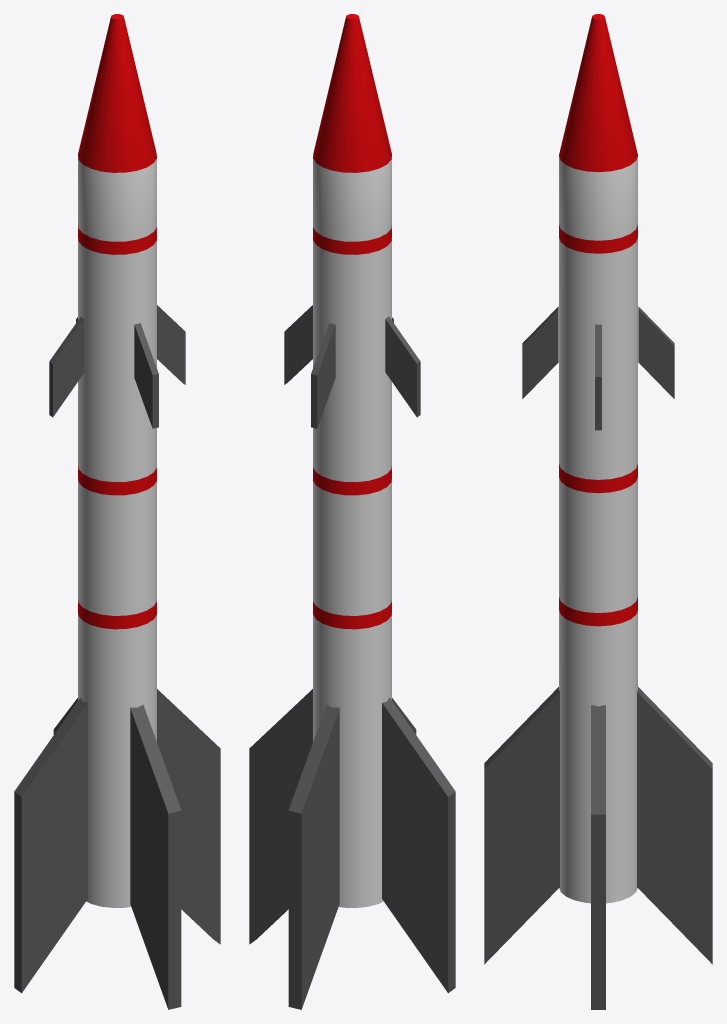
The model's file is Rocket.001.fbx.
The picture shows the model from 3 angles, left to right: view 1: azimuth 30°, elevation 25°; view 2: azimuth 150°, elevation 25°; view 3: azimuth 270°, elevation 25°; orthographic projection.
Visible parts, largest first — view 1: Cylinder; view 2: Cylinder; view 3: Cylinder.
Part boxes in pixels (left/top/right/bottom): Cylinder: left=14, top=14, right=220, bottom=1009; Cylinder: left=249, top=14, right=455, bottom=1009; Cylinder: left=484, top=14, right=712, bottom=1009.
Size of the model in its own units: 165 by 754 by 165.
